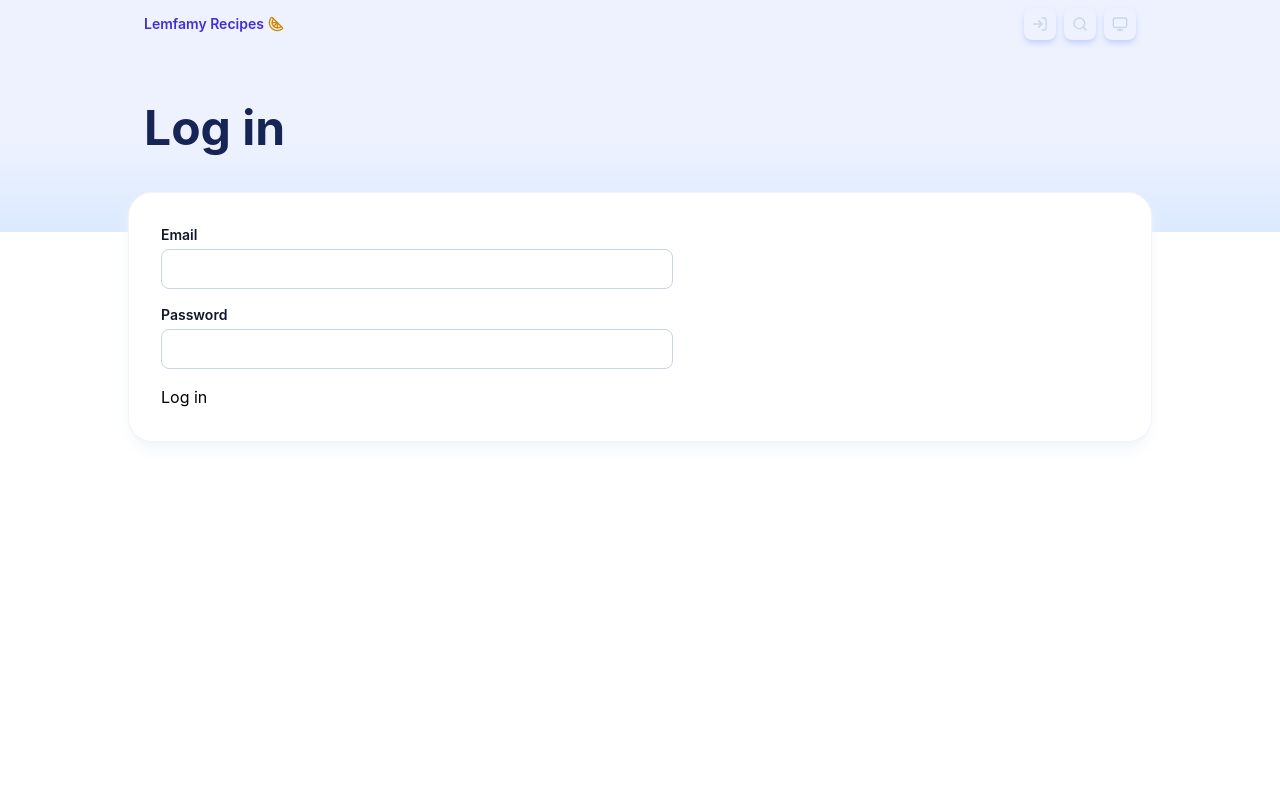
it: Log in route › shows the error and lets the person try again when sign-in fails
Type "cook@example.com" into the field labelled "Email" at coordinates (417, 269), box [161,249,673,289]
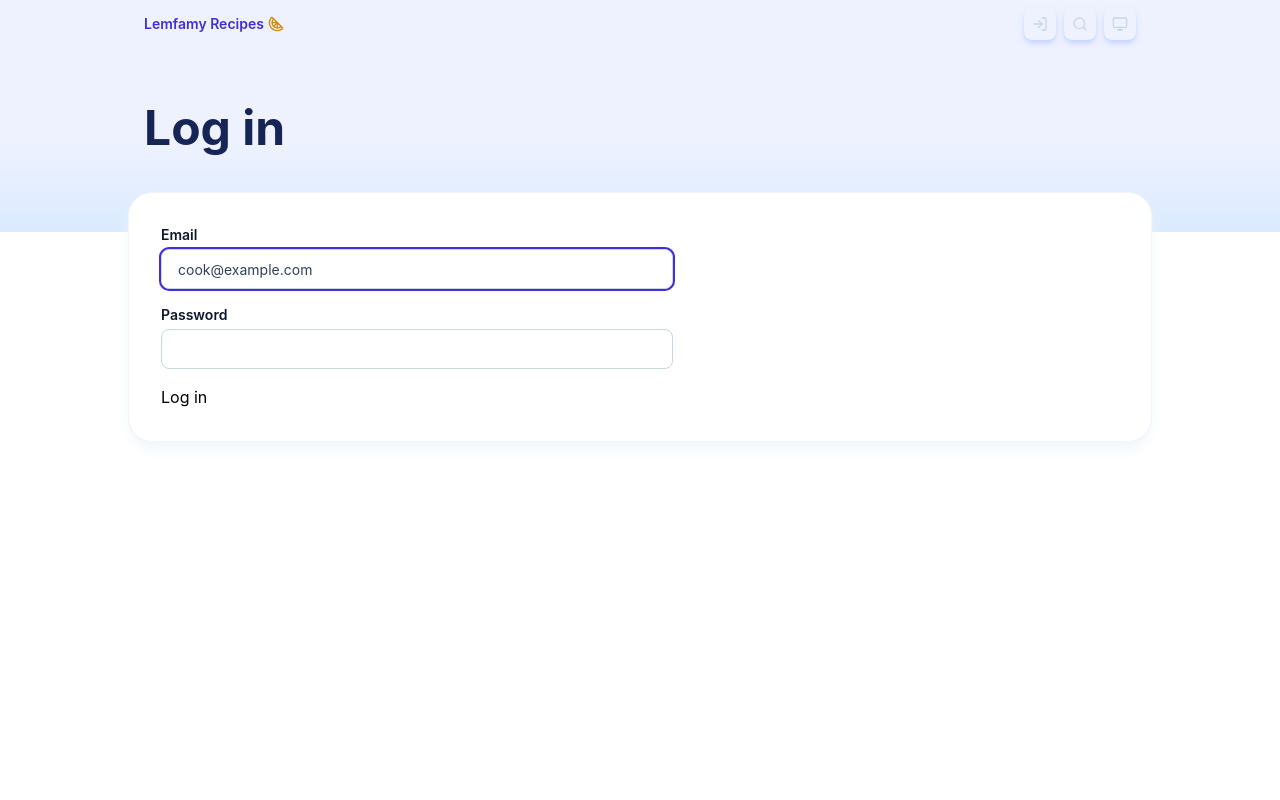
Type "wrong-password" into the password field labelled "Password" at coordinates (417, 349), box [161,329,673,369]
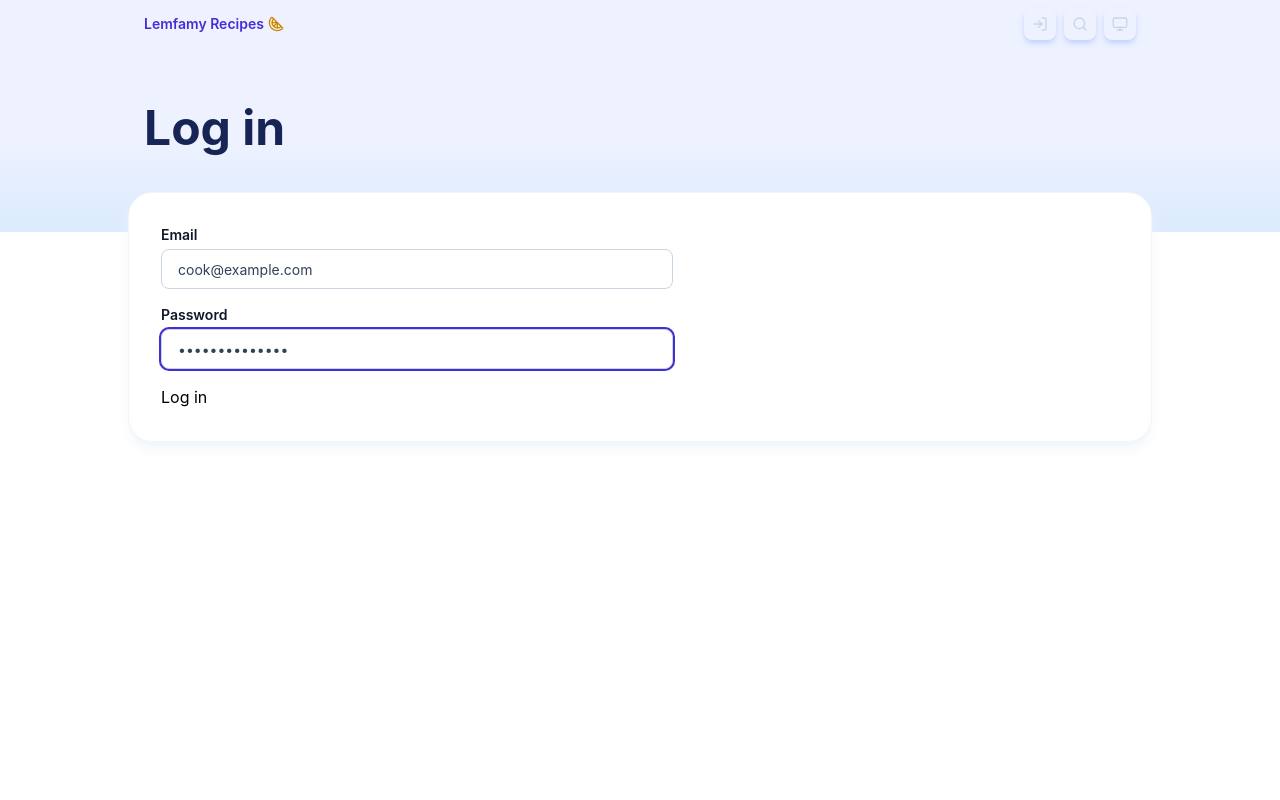
Click the button "Log in" at coordinates (184, 397), box [161,385,207,409]
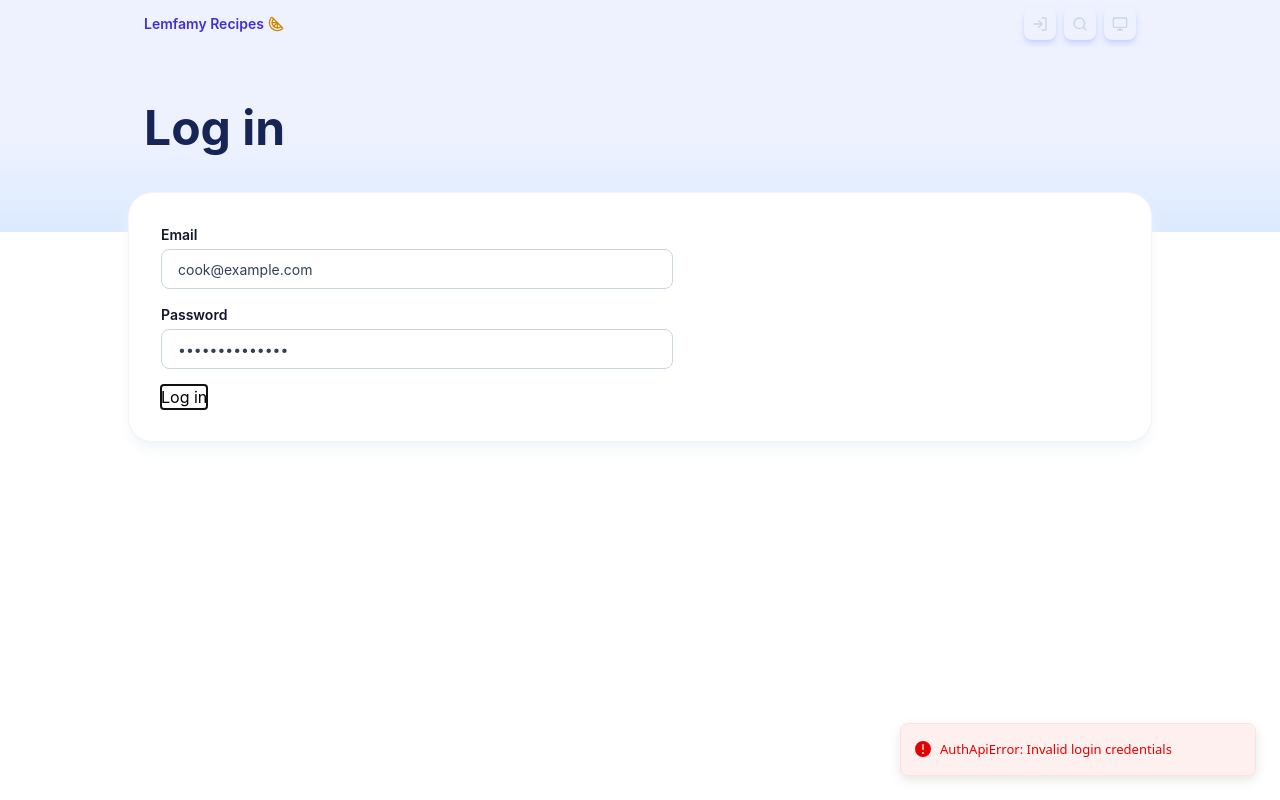
Now the text "Invalid login credentials" is shown, box [940,740,1172,758]
